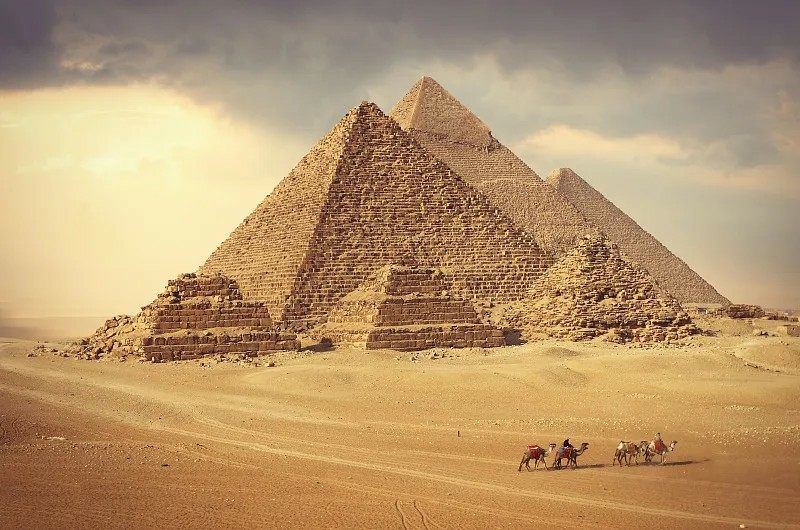Pyramid: (196, 104, 557, 305), (389, 75, 591, 262), (545, 168, 733, 306), (513, 241, 701, 339), (104, 274, 301, 359), (323, 264, 505, 346)
